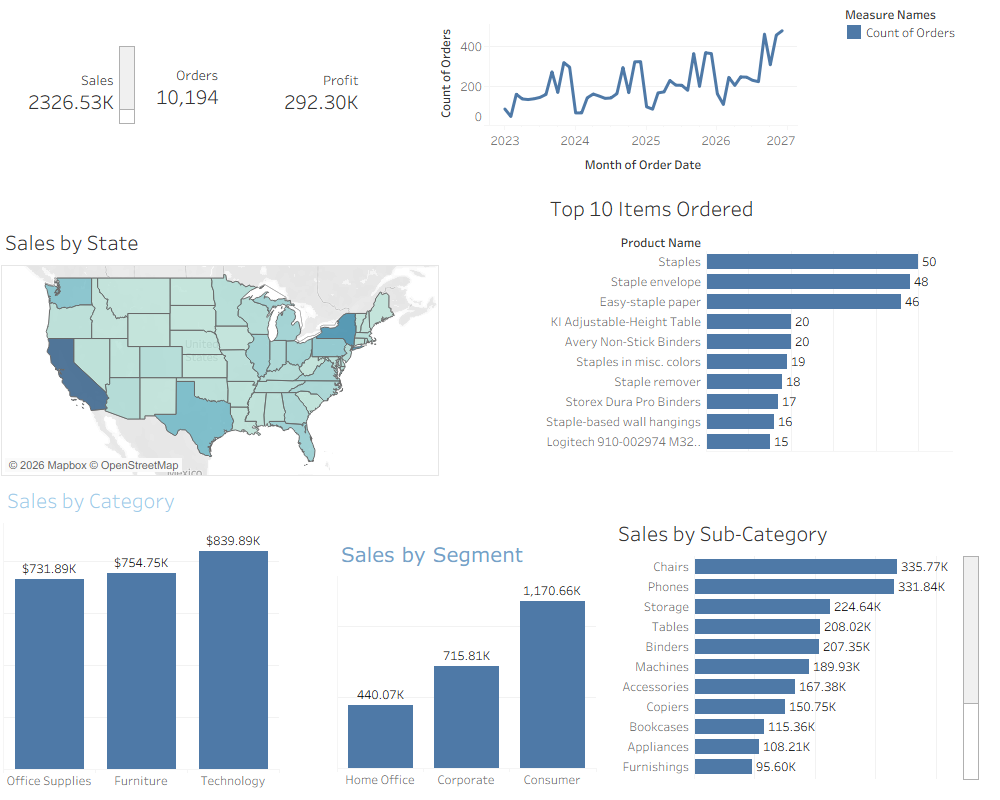

The dashboard page shown, as its layout file describes it:
{"tool":"tableau","page":{"name":"Dashboard 1","canvas":[1000,800],"ordinal":0},"visuals":[{"type":"legend","title":"Sheet 8","param":"[federated.1hg276a0bcklfn161gw4u1f1wiz8].[:Measure Names]","box":[840,0,160,46]},{"type":"worksheet","title":"Sheet 8","mark":"Automatic","rows":["Orders_B962AAD18EA24D5E98FDFB810A3BC1A4"],"cols":["Order Date"],"box":[430,9,367,171]},{"type":"worksheet","title":"Sheet 5","mark":"Automatic","box":[5,31,140,92]},{"type":"worksheet","title":"Sheet 9","mark":"Automatic","box":[249,33,153,106]},{"type":"worksheet","title":"Sheet 11","mark":"Automatic","box":[143,51,143,75]},{"type":"worksheet","title":"Sheet 3","mark":"Automatic","rows":["Product Name"],"cols":["Orders_B962AAD18EA24D5E98FDFB810A3BC1A4"],"box":[546,188,406,298]},{"type":"worksheet","title":"Sheet 4","mark":"Multipolygon","box":[1,222,438,254]},{"type":"worksheet","title":"Sheet 1","mark":"Automatic","rows":["Sales"],"cols":["Category"],"box":[3,480,276,310]},{"type":"worksheet","title":"Sheet 6","mark":"Automatic","rows":["Sub-Category"],"cols":["Sales"],"box":[614,513,365,266]},{"type":"worksheet","title":"Sheet 2","mark":"Automatic","rows":["Sales"],"cols":["Segment"],"box":[337,536,259,253]}]}

Visuals, with their boxes in screenshot pixels (x1, y1, x2, y2), scaled from the page's 1000x800 canvas onto the 1000x800 screenshot:
"Sheet 8" legend: [x1=840, y1=0, x2=999, y2=46]
"Sheet 8" worksheet: [x1=430, y1=9, x2=797, y2=180]
"Sheet 5" worksheet: [x1=5, y1=31, x2=145, y2=123]
"Sheet 9" worksheet: [x1=249, y1=33, x2=402, y2=139]
"Sheet 11" worksheet: [x1=143, y1=51, x2=286, y2=126]
"Sheet 3" worksheet: [x1=546, y1=188, x2=952, y2=486]
"Sheet 4" worksheet (Multipolygon marks): [x1=1, y1=222, x2=439, y2=476]
"Sheet 1" worksheet: [x1=3, y1=480, x2=279, y2=790]
"Sheet 6" worksheet: [x1=614, y1=513, x2=979, y2=779]
"Sheet 2" worksheet: [x1=337, y1=536, x2=596, y2=789]
